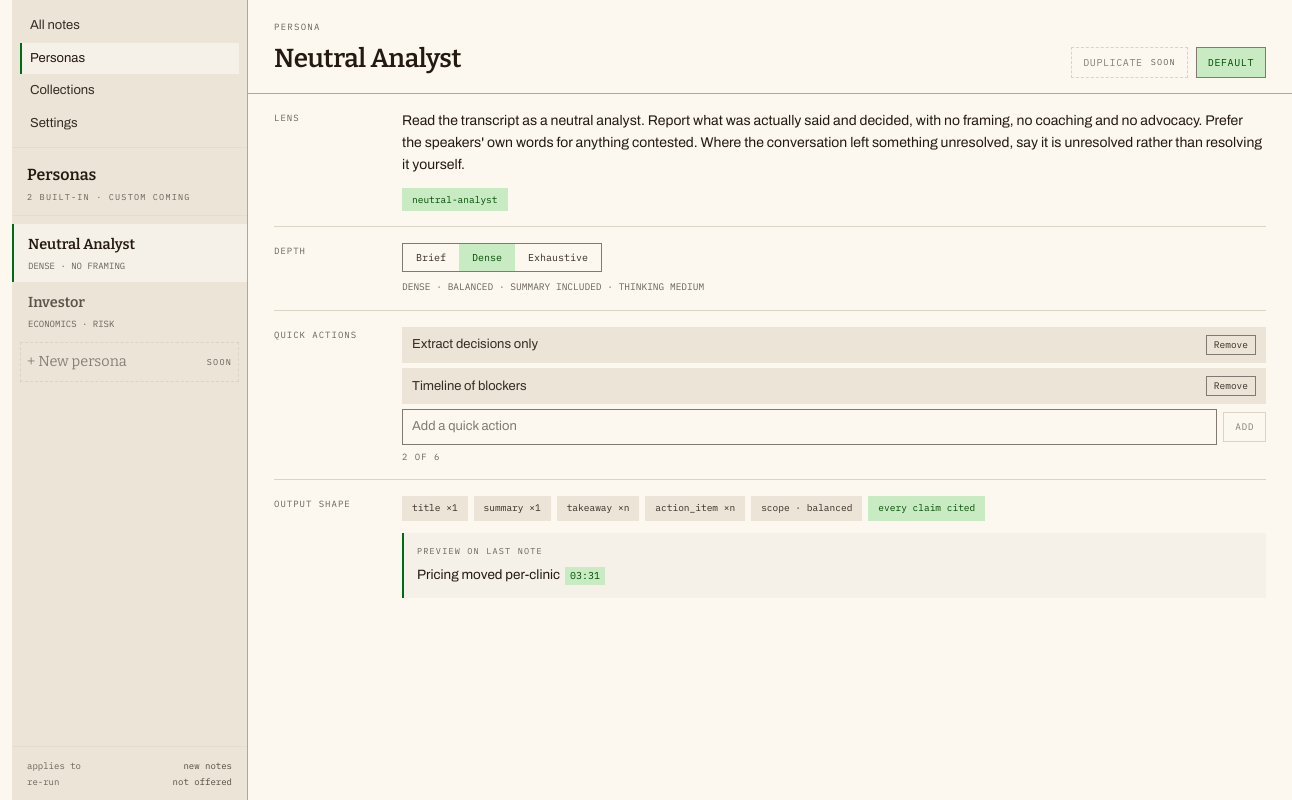
PersonasShell › switches the pane when another lens is picked
Click the tab "Investor economics · risk" at (130, 311), box top-left (12, 282), bottom-right (247, 340)
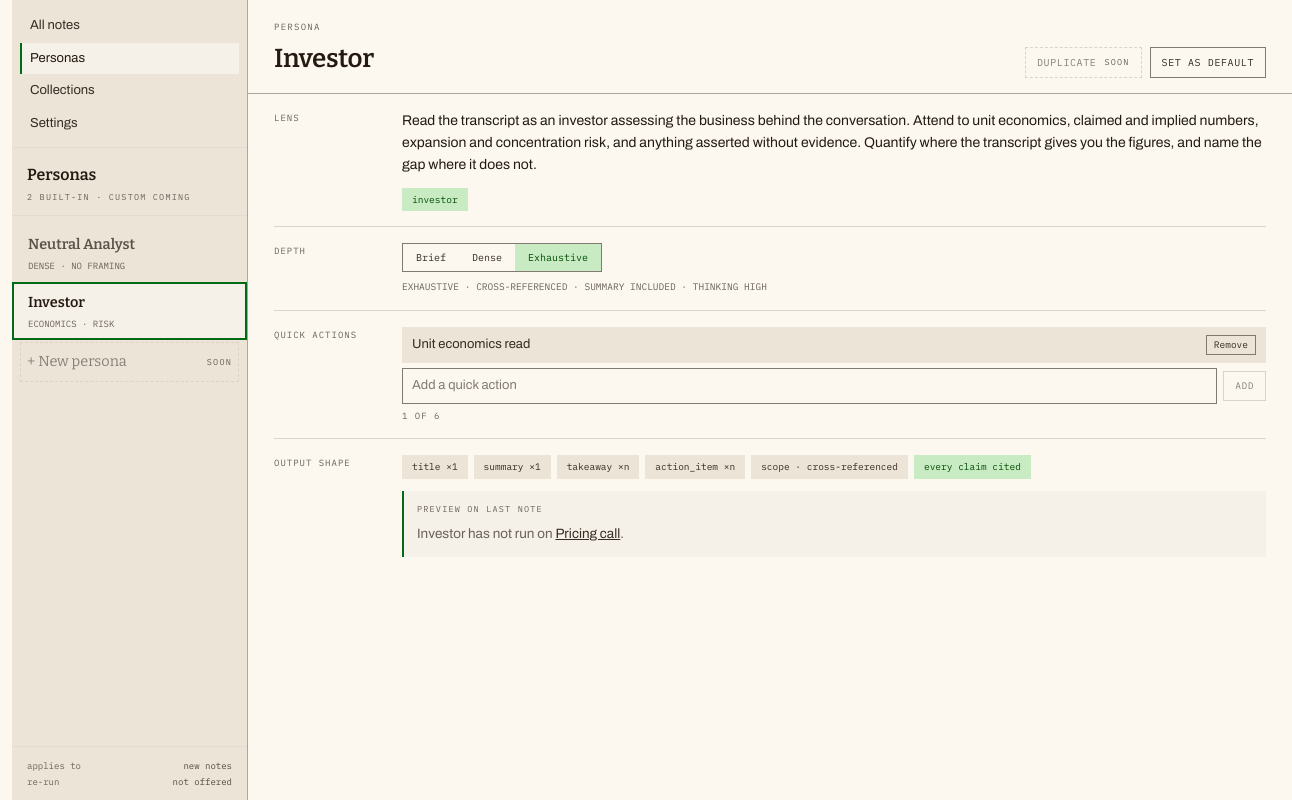
Now the heading "Investor" is shown, box top-left (274, 38), bottom-right (374, 78)
Now the text "Unit economics read" is shown, box top-left (412, 337), bottom-right (530, 351)
